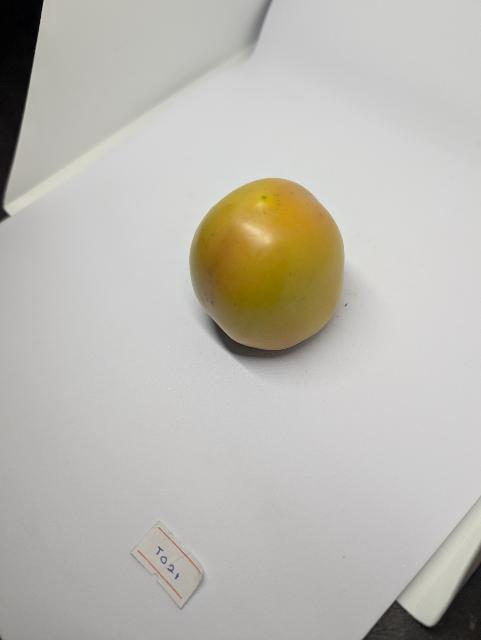turning: (174, 160, 362, 359)
